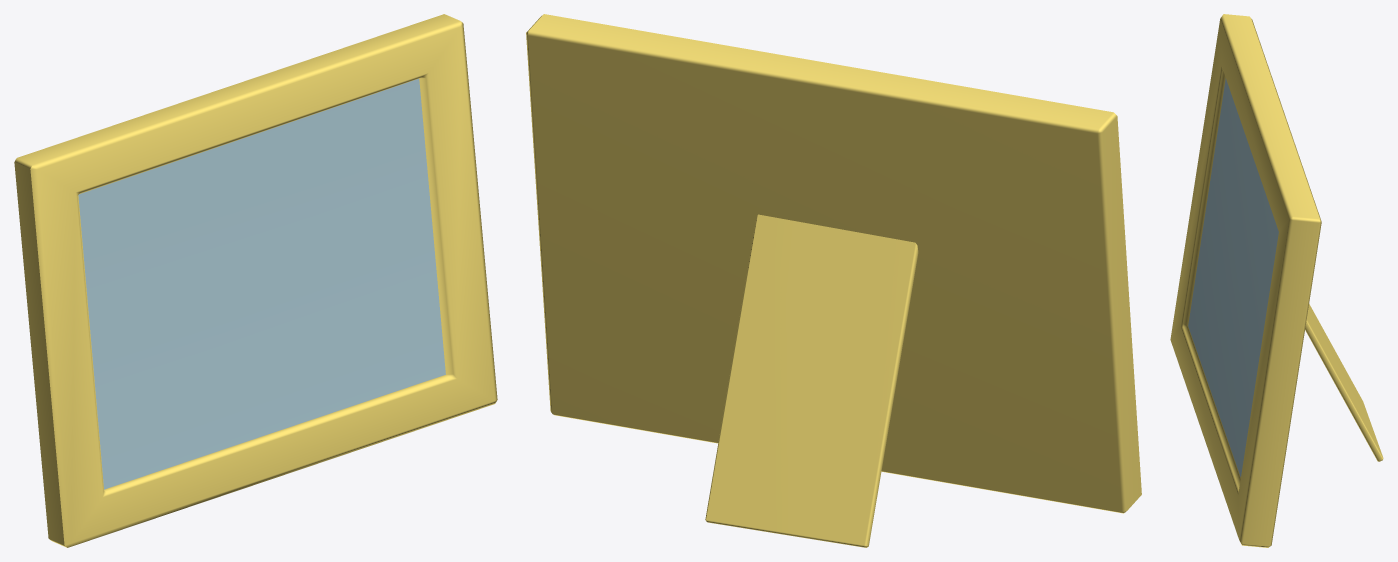
Rendered from Photoframe_1.glb.
3 views of the same model, side by side, from view 1: azimuth 30°, elevation 25°; view 2: azimuth 150°, elevation 25°; view 3: azimuth 270°, elevation 25° (orthographic). The views are drawn at different scales.
Parts seen in each view (by area): view 1: Photoframe_1; view 2: Photoframe_1; view 3: Photoframe_1.
Part boxes in pixels (box(x1,y1,x2,y2)): Photoframe_1: box(14, 14, 497, 547); Photoframe_1: box(526, 14, 1141, 547); Photoframe_1: box(1170, 14, 1383, 547).
Size of the model in its own units: 0.3382 by 0.2485 by 0.145.
Materials: 1 (1 with a texture image).
